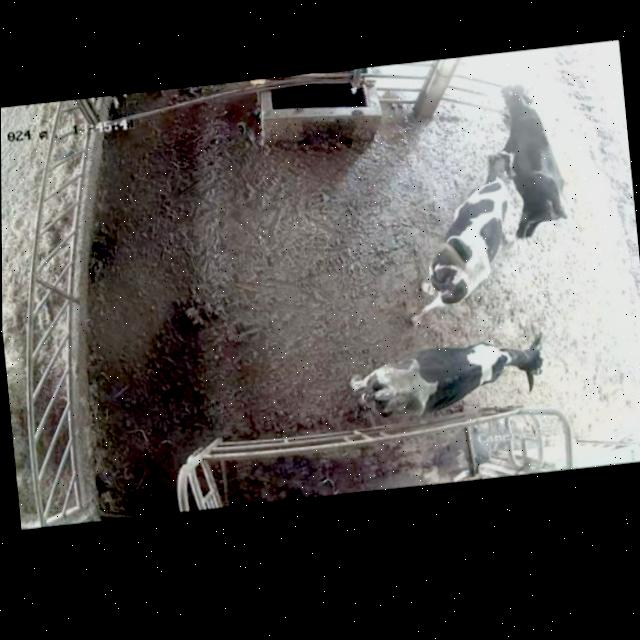stand: (388, 143, 532, 329), (325, 320, 559, 431), (497, 65, 592, 261)
